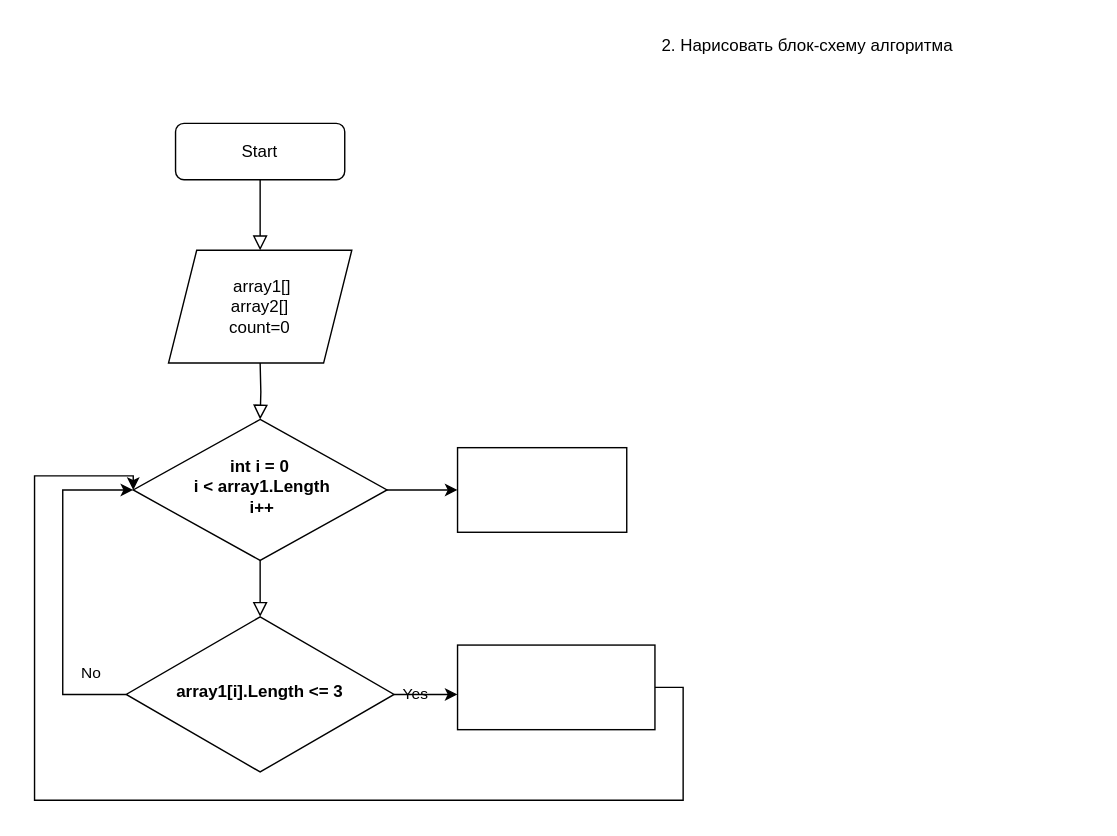
Some shapes in this 1117 by 836 pixel diagram are drawn without their labels. The shapes that lost their labels are listed below. From the top down, each one's centre as x and y in pixels, then its label:
At (541,489): "print(array)".
At (555,687): "array2[count] = array1[i] count++".
